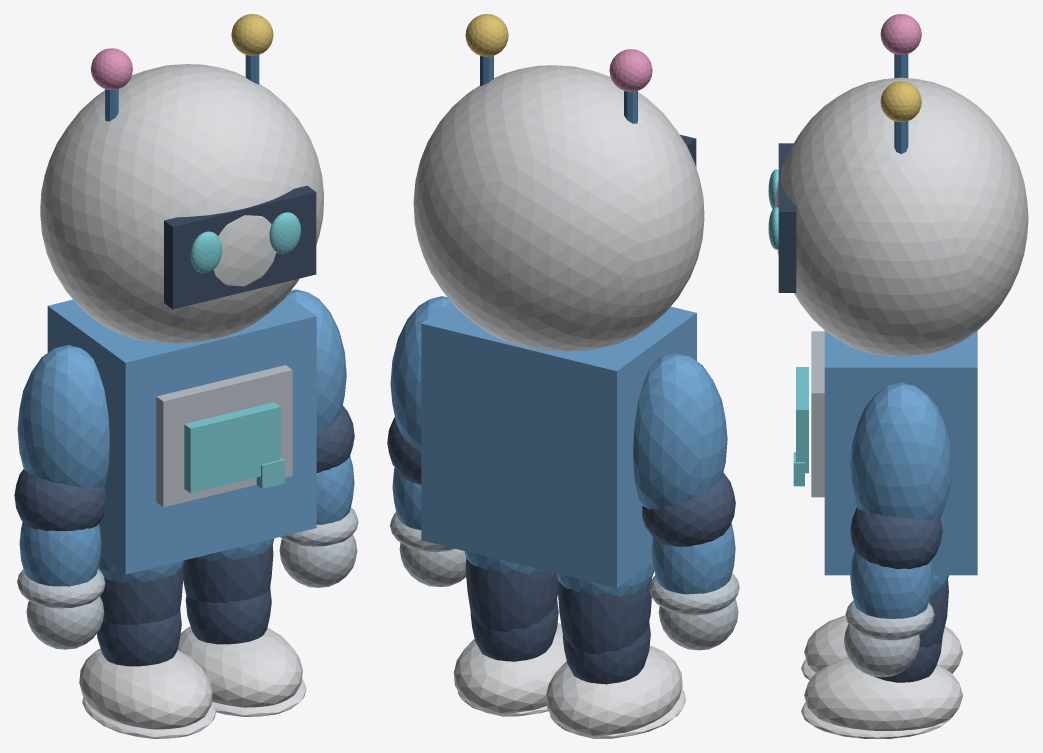
File: avatar_ai_chatbot_v3.glb
The picture shows the model from 3 angles, left to right: view 1: azimuth 30°, elevation 25°; view 2: azimuth 150°, elevation 25°; view 3: azimuth 270°, elevation 25°; orthographic projection. The views are drawn at different scales.
Parts seen in each view (by area): view 1: round_head, body_core, L_sleeve_upper, chest_plate, chat_face, L_shoe, speech_badge, R_shoe, L_sleeve_lower, L_elbow, R_leg, R_sleeve_upper (+18 smaller); view 2: round_head, body_core, L_sleeve_upper, L_shoe, R_shoe, L_leg, R_leg, L_elbow, L_sleeve_lower, R_sleeve_upper, R_leg_bottom, L_leg_bottom (+11 smaller); view 3: round_head, body_core, R_sleeve_upper, R_shoe, R_elbow, R_sleeve_lower, R_hand, L_shoe, chest_plate, chat_face, R_cuff, antenna_tip_0.25 (+6 smaller).
Part boxes in pixels (x1,y1,x2,y2): round_head: (40,64,323,343); body_core: (47,295,316,574); L_sleeve_upper: (17,345,109,487); chest_plate: (156,365,292,507); chat_face: (164,185,316,309); L_shoe: (79,648,212,729); speech_badge: (184,402,280,493); R_shoe: (177,626,302,707); L_sleeve_lower: (19,522,101,586); L_elbow: (14,469,105,530); R_leg: (183,545,273,603); R_sleeve_upper: (288,289,346,432); round_head: (413,65,704,351); body_core: (421,302,696,587); L_sleeve_upper: (633,353,727,509); L_shoe: (546,645,682,738); R_shoe: (453,623,566,716); L_leg: (557,579,651,654); R_leg: (465,559,558,631); L_elbow: (642,472,735,546); L_sleeve_lower: (651,523,735,594); R_sleeve_upper: (390,296,450,450); R_leg_bottom: (470,599,558,661); L_leg_bottom: (562,622,650,684); round_head: (774,77,1028,356); body_core: (824,331,977,575); R_sleeve_upper: (850,382,951,519); R_shoe: (804,657,963,730); R_elbow: (850,507,942,569); R_sleeve_lower: (850,550,932,618); R_hand: (844,624,920,677); L_shoe: (804,615,963,673); chest_plate: (811,331,824,497); chat_face: (778,143,796,292); R_cuff: (845,600,934,640); antenna_tip_0.25: (880,81,921,122).
Bounding box in the file's own units: 1.17 × 2.29 × 0.817.
